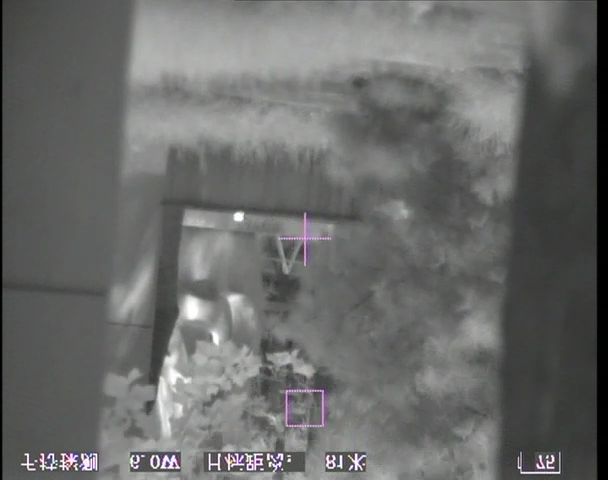my: (233, 210, 245, 222)
